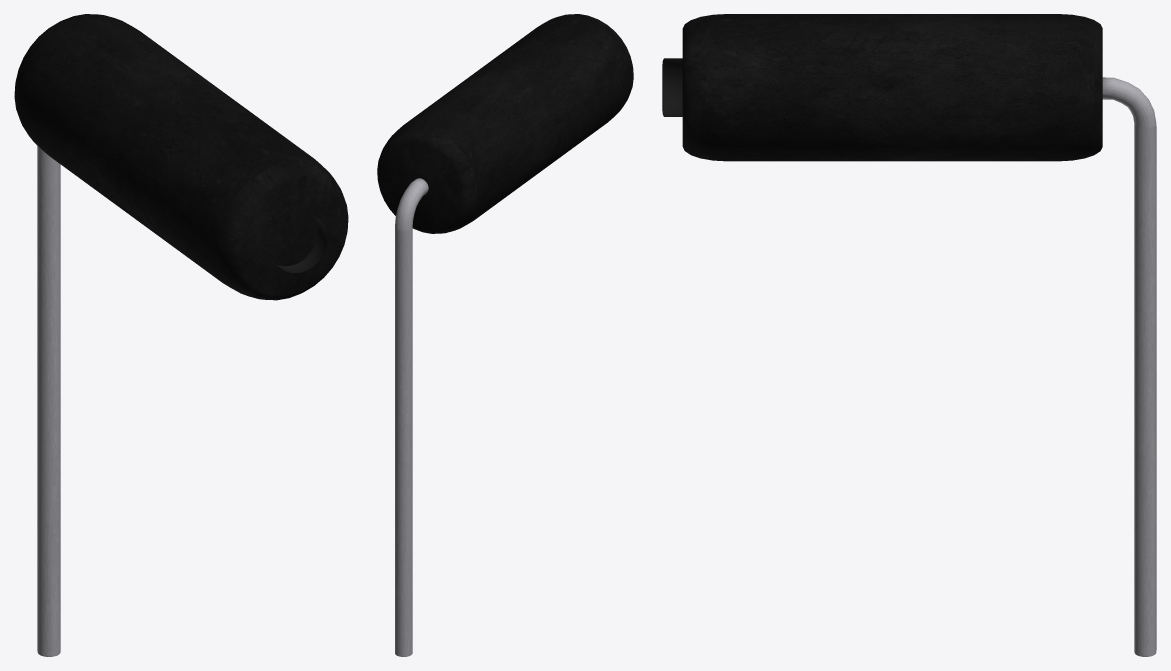
File: meniscus_positioning_device.fbx
3 views of the same model, side by side, from view 1: azimuth 30°, elevation 25°; view 2: azimuth 150°, elevation 25°; view 3: azimuth 270°, elevation 25° (orthographic). The views are drawn at different scales.
Parts seen in each view (by area): view 1: pad, mounting_rod, cap; view 2: pad, mounting_rod; view 3: pad, mounting_rod, cap.
Part boxes in pixels (left/top/right/bottom): pad: left=14, top=14, right=348, bottom=300; mounting_rod: left=37, top=146, right=60, bottom=656; cap: left=270, top=214, right=327, bottom=273; pad: left=377, top=14, right=633, bottom=233; mounting_rod: left=395, top=178, right=428, bottom=656; pad: left=682, top=14, right=1102, bottom=161; mounting_rod: left=1102, top=77, right=1156, bottom=656; cap: left=662, top=58, right=682, bottom=116.
Size of the model in its own units: 0.0999 by 0.4728 by 0.3352.
3 materials, 3 textured.
